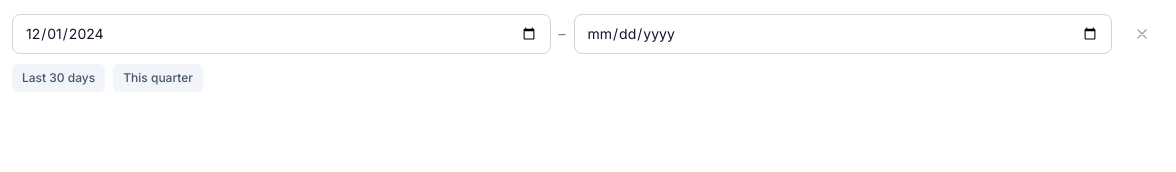
Test: DateRangePicker › shows validation error when end is before start
In the date field named "End date": (843, 34) [574,14,1112,54], type "2024-01-01"
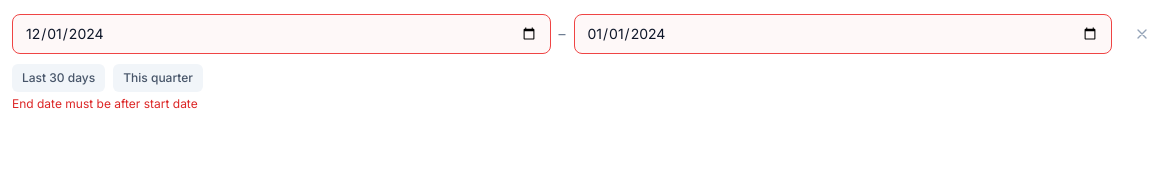
Expected: the text "End date must be after start date" is shown, [12,96,198,111]
